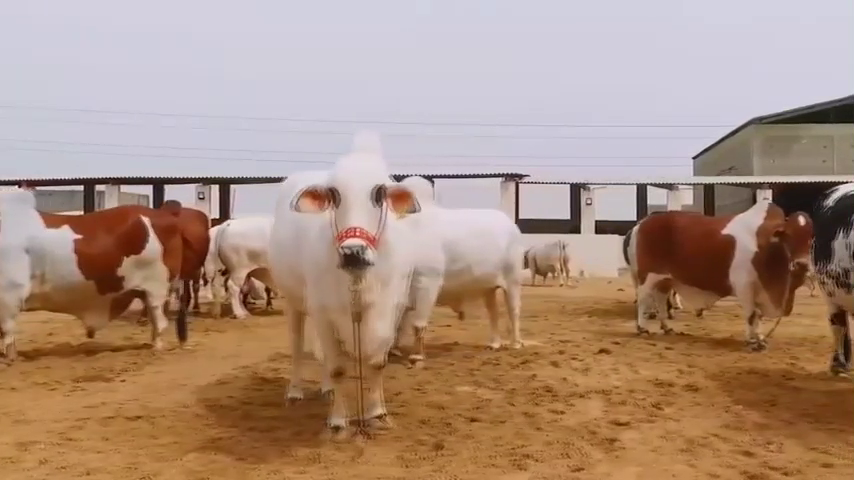bo: (271, 119, 423, 446), (2, 181, 187, 365), (617, 193, 814, 359), (410, 167, 526, 356), (807, 167, 854, 379), (200, 204, 279, 327), (520, 217, 578, 301)
